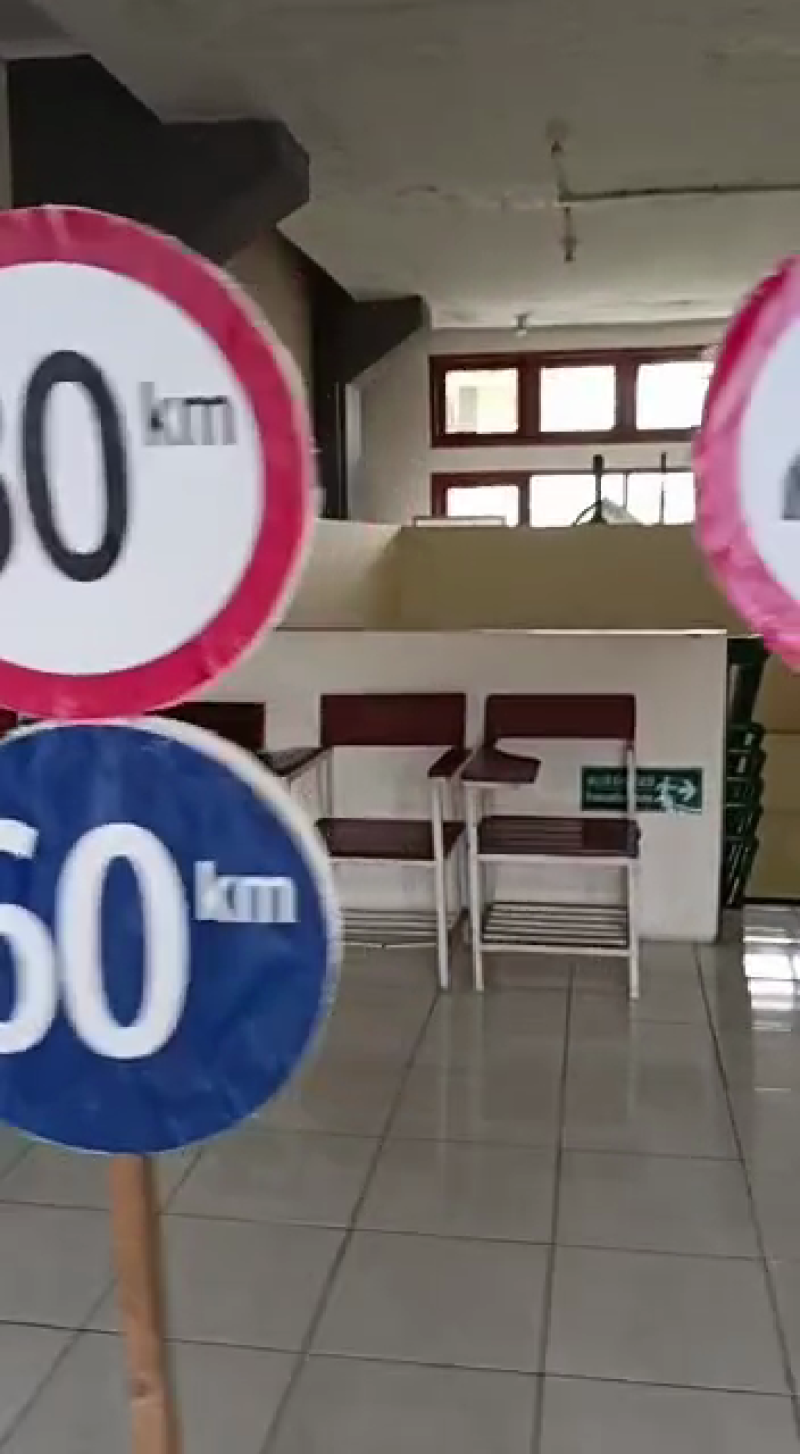batas maksimal 80kmperjam minimal 60kmperjam: (1, 183, 353, 1161)
